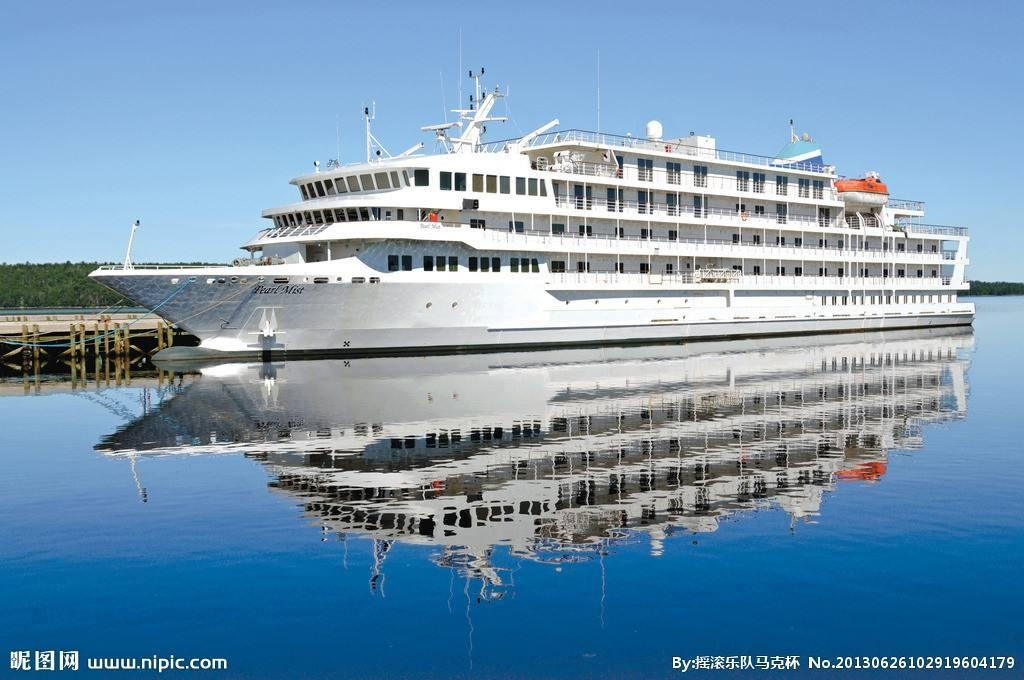youlun: (95, 82, 979, 348)
